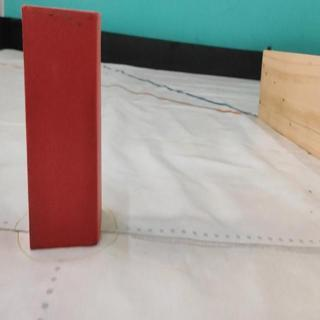redbox: (22, 6, 101, 250)
